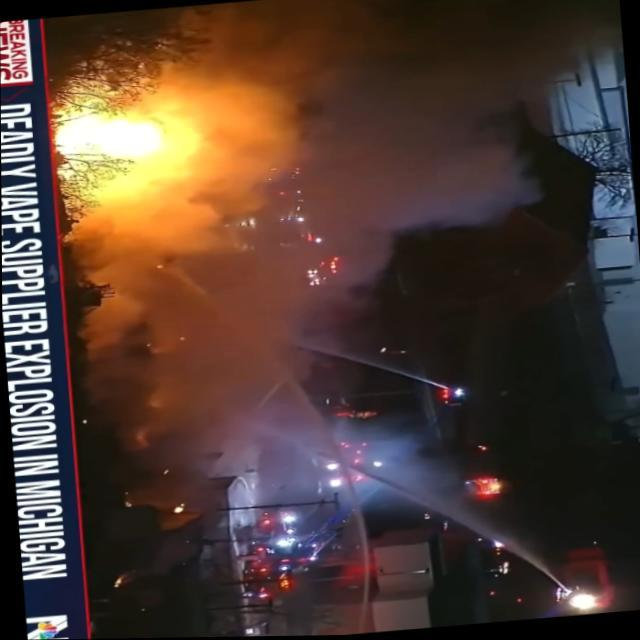fire: (48, 0, 332, 332)
